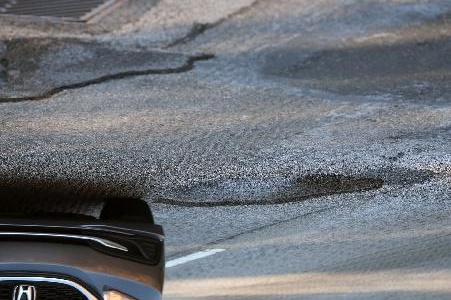pothole: (0, 35, 216, 106), (153, 169, 385, 210)
